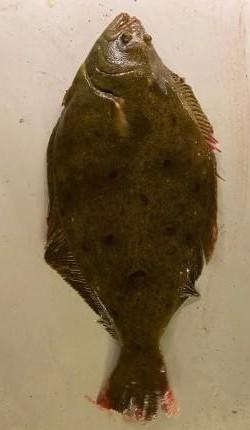fish: (44, 12, 219, 422)
